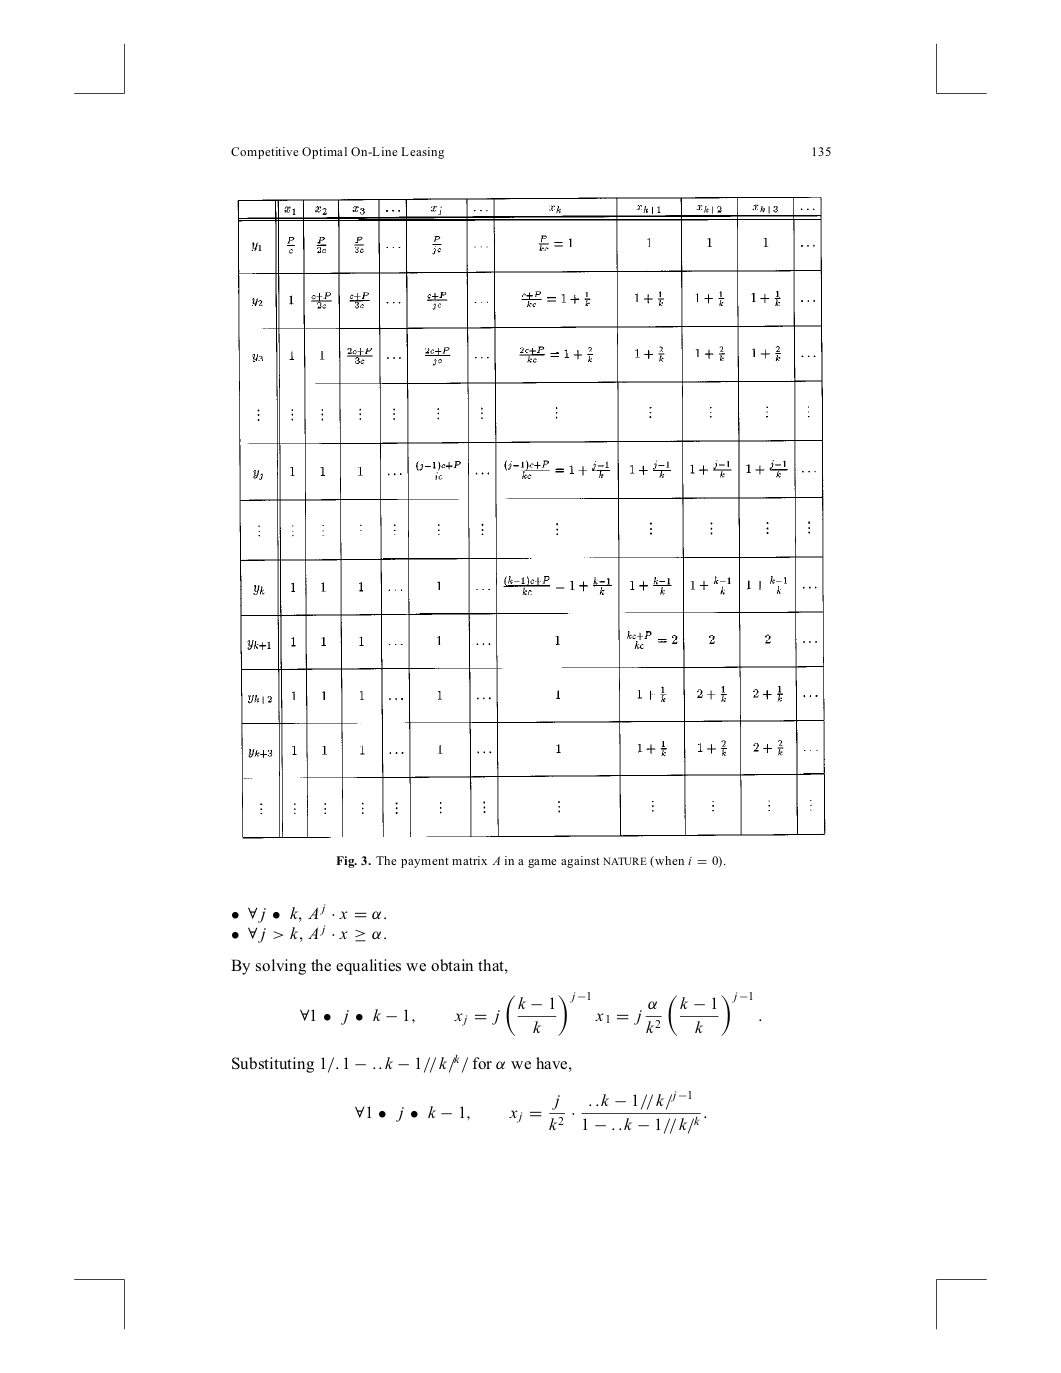Table: (237, 195, 825, 839)
formula: (300, 991, 761, 1036), (356, 1090, 705, 1135)
